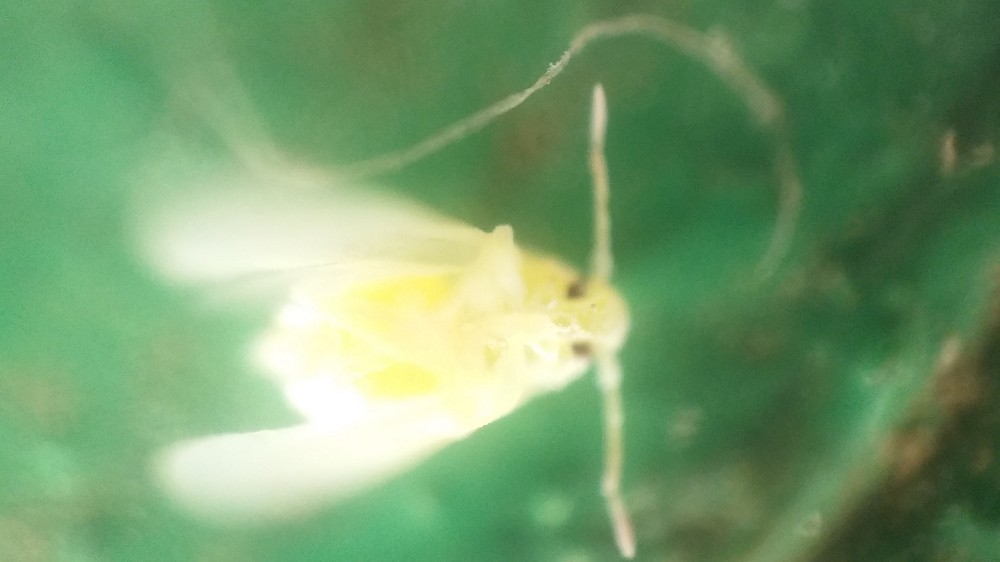Mosca Blanca: (105, 77, 643, 554)
